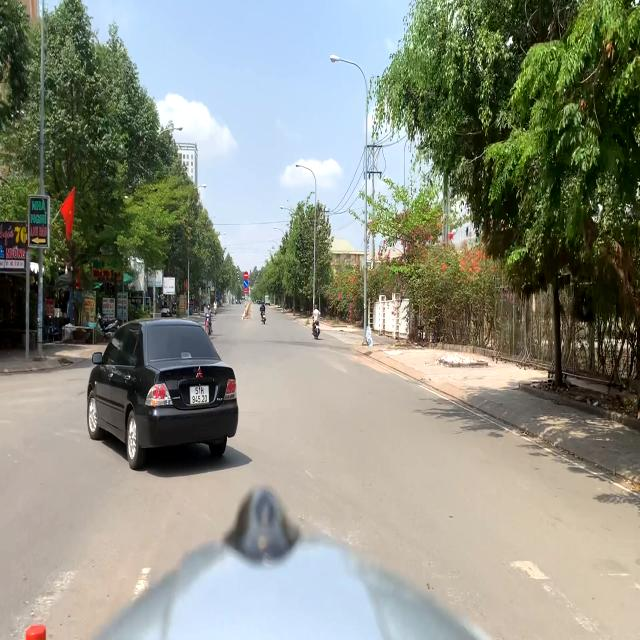P.102: (244, 271, 248, 279)
R.302a: (243, 279, 248, 288)
